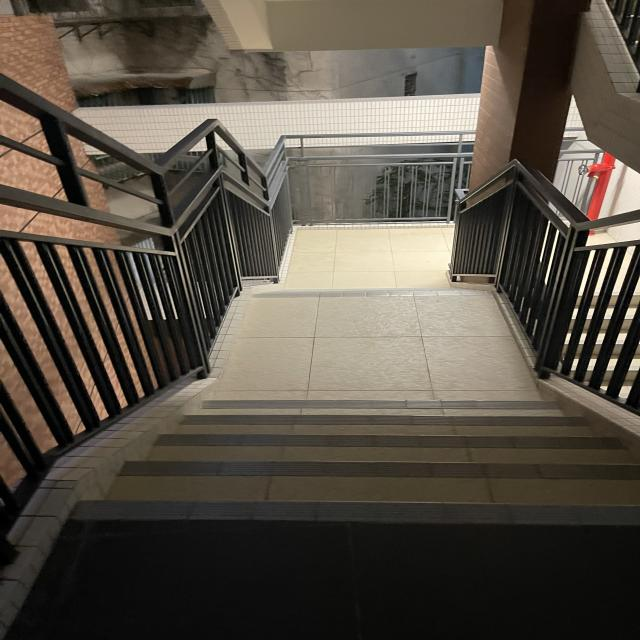Stairs: (55, 382, 640, 541), (200, 205, 549, 422)
